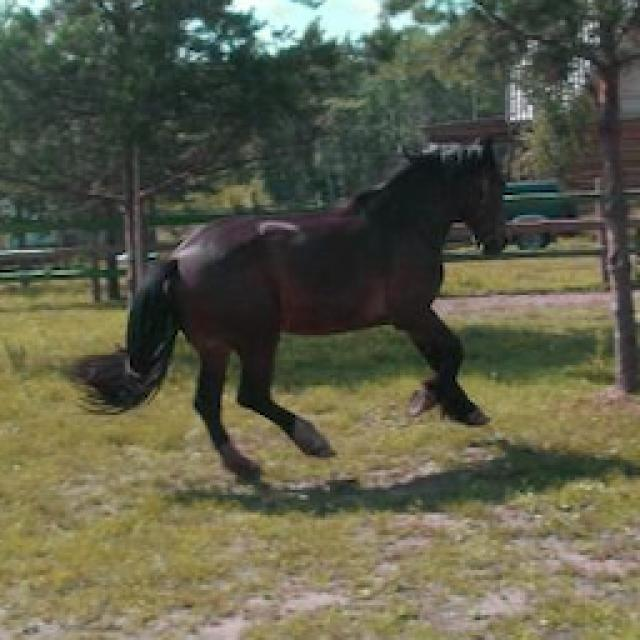Horse: (62, 128, 526, 490)
